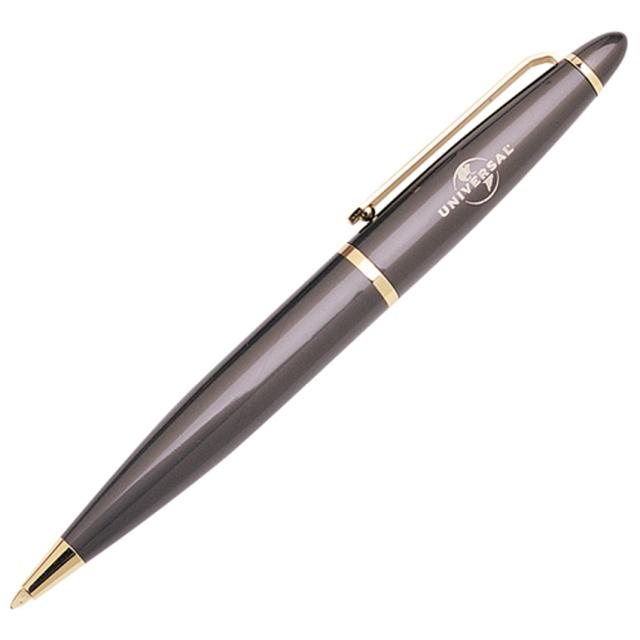pen: (0, 31, 629, 611)
